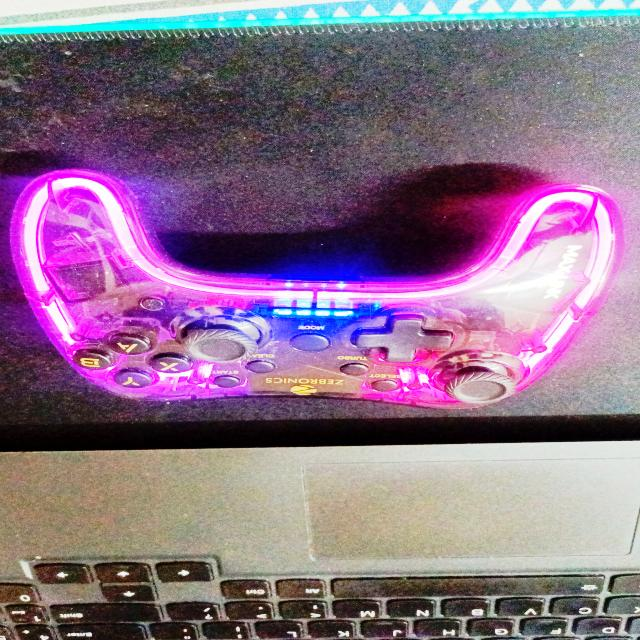gamepad: (8, 169, 627, 410)
